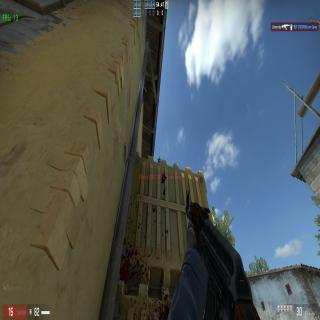CT-Head: (158, 156, 162, 164)
